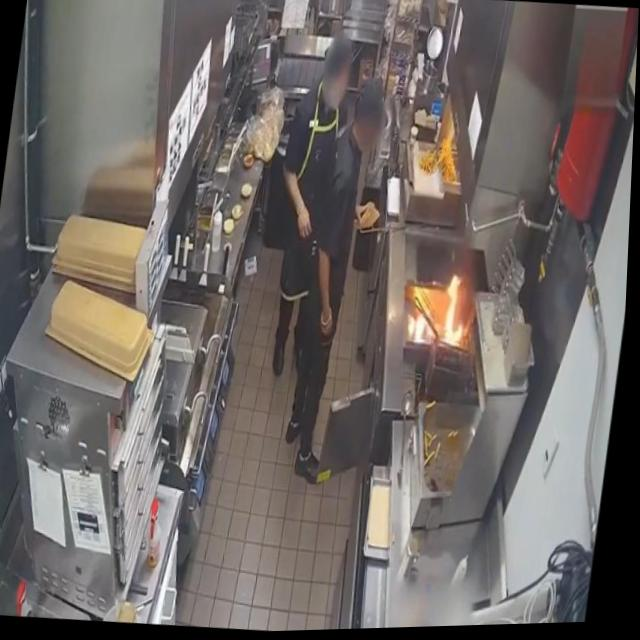fire: (437, 273, 477, 351)
